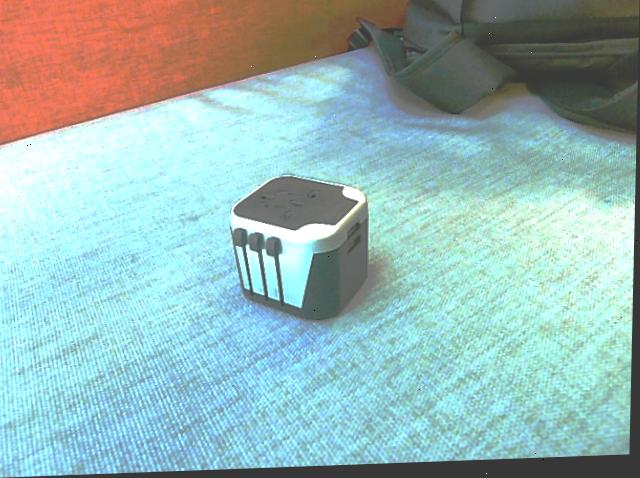adapter: (228, 175, 371, 326)
